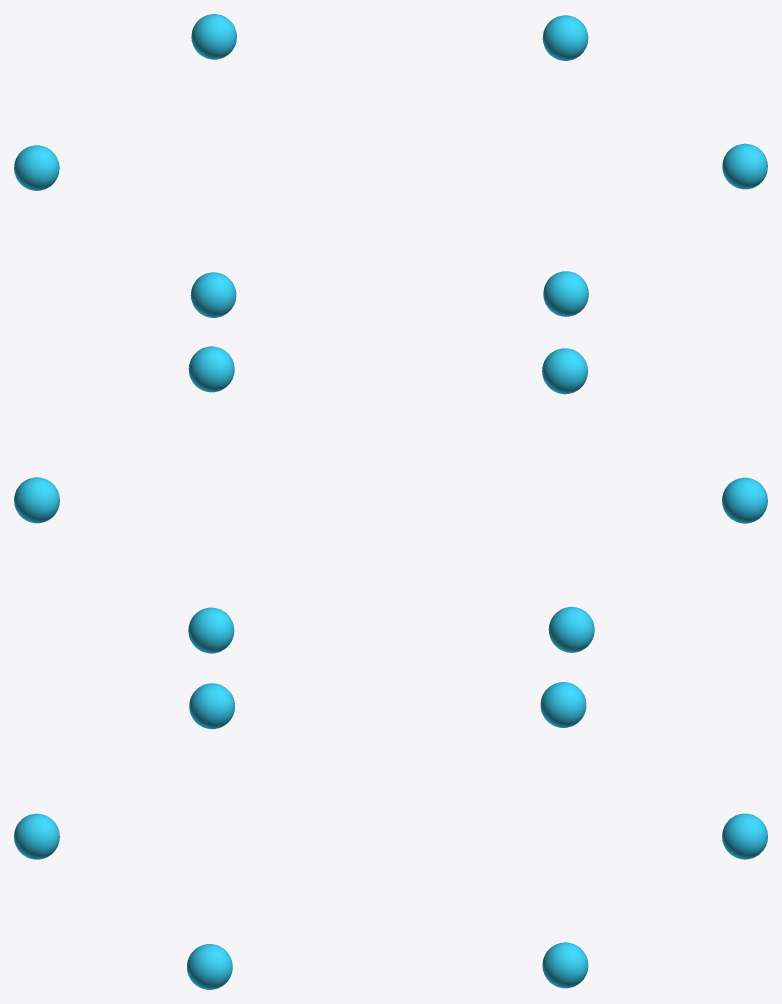
3 renders of one model, top to bottom at view 1: azimuth 30°, elevation 25°; view 2: azimuth 150°, elevation 25°; view 3: azimuth 270°, elevation 25°, orthographic.
Parts seen in each view (by area): view 1: Sphere048; view 2: Sphere048; view 3: Sphere048.
Part boxes in pixels (box(x1,y1,x2,y2)): Sphere048: box(14, 14, 767, 317); Sphere048: box(14, 346, 767, 653); Sphere048: box(14, 682, 767, 989).
Size of the model in its own units: 119 by 8.22 by 135.
